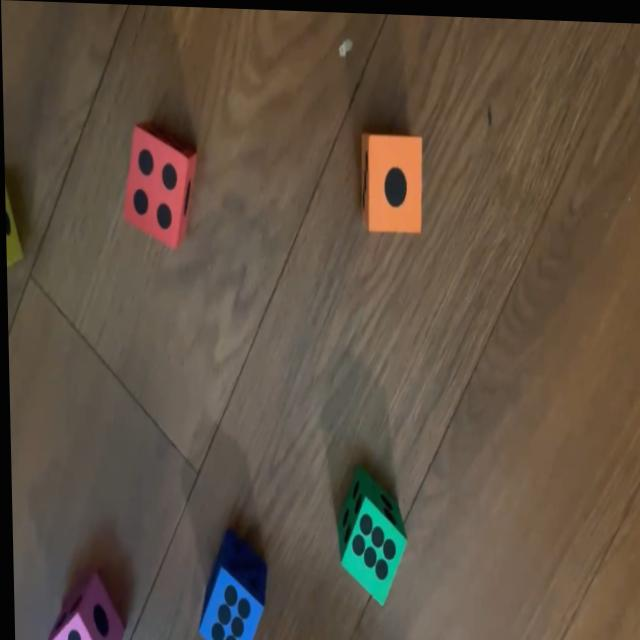red_block: (122, 122, 197, 249)
